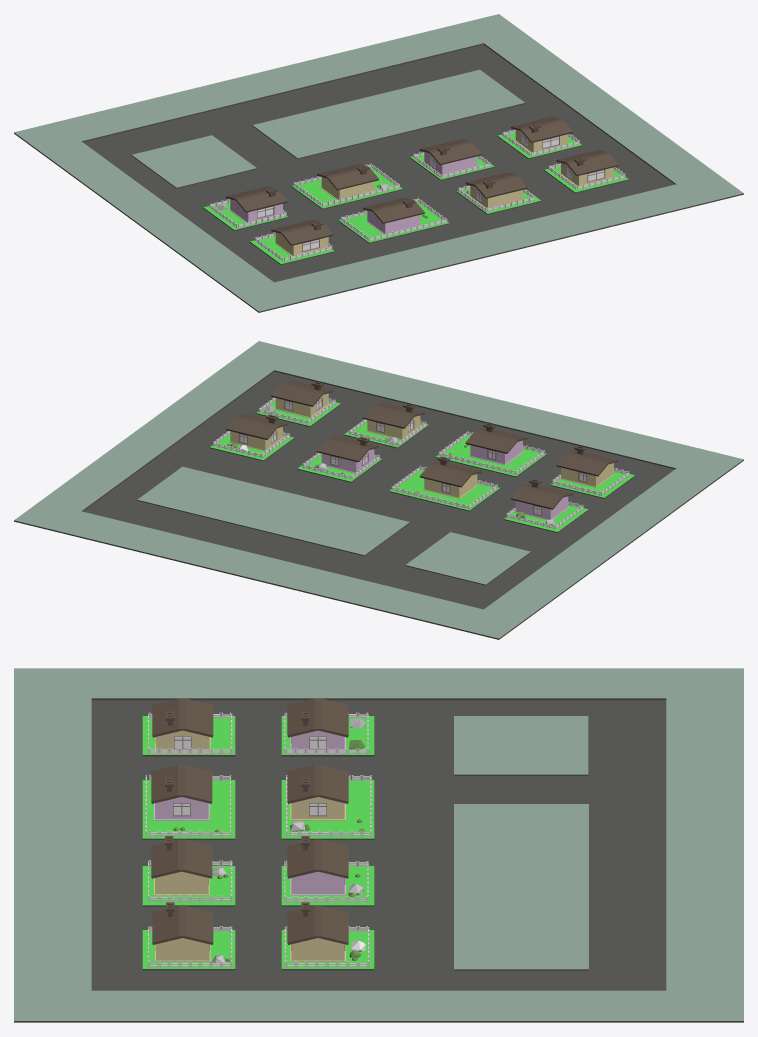
File: environment.fbx
The picture shows the model from 3 angles, top to bottom: view 1: azimuth 30°, elevation 25°; view 2: azimuth 150°, elevation 25°; view 3: azimuth 270°, elevation 25°; orthographic projection. The views are drawn at different scales.
Visible parts, largest first — view 1: Plane.002, house8, house7, house, house1, house6, house2, house5, house4, Cube.036; view 2: Plane.002, house5, house, house7, house8, house4, house6, house1, house2, Cube.036; view 3: Plane.002, house2, house4, house, house1, house5, house8, house6, house7, Cube.036, fence.004, fence (+4 smaller).
Boxes of the visible parts, x1,y1,x2,y2 form: Plane.002: [14, 14, 743, 312]; house8: [362, 197, 424, 234]; house7: [271, 219, 333, 256]; house: [556, 150, 618, 186]; house1: [511, 116, 572, 153]; house6: [225, 186, 287, 223]; house2: [419, 139, 481, 176]; house5: [317, 164, 378, 200]; house4: [465, 172, 527, 209]; Cube.036: [293, 163, 447, 241]; Plane.002: [14, 341, 743, 639]; house5: [419, 456, 481, 498]; house: [271, 380, 332, 417]; house7: [556, 445, 618, 487]; house8: [465, 423, 527, 465]; house4: [362, 402, 424, 439]; house6: [511, 479, 572, 520]; house1: [225, 413, 287, 451]; house2: [317, 436, 378, 473]; Cube.036: [391, 431, 544, 509]; Plane.002: [14, 668, 743, 1022]; house2: [287, 836, 348, 895]; house4: [151, 836, 212, 895]; house: [152, 902, 213, 961]; house1: [287, 902, 348, 961]; house5: [287, 765, 348, 820]; house8: [151, 765, 212, 820]; house6: [287, 698, 348, 754]; house7: [152, 698, 213, 754]; Cube.036: [145, 774, 371, 837]; fence.004: [284, 712, 368, 754]; fence: [284, 926, 369, 968].
Size of the model in its own units: 9866 by 611 by 8632.
